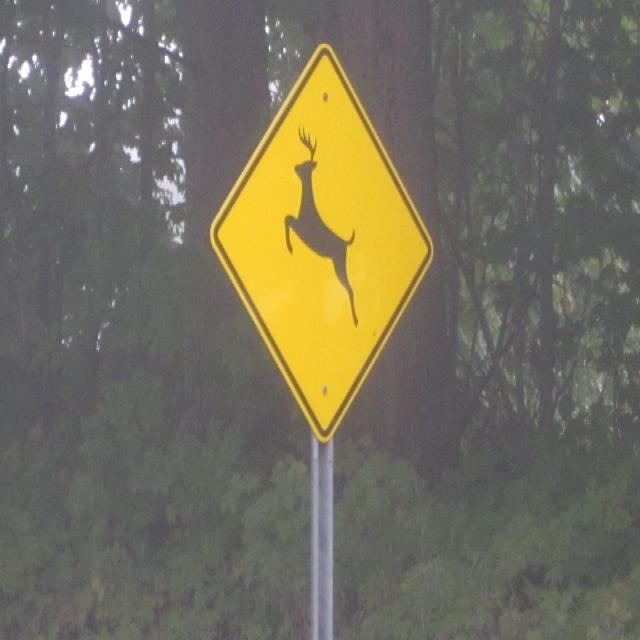warning: (211, 43, 434, 443)
